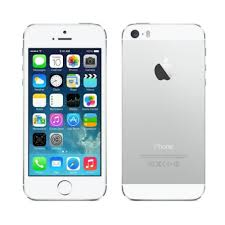iphone: (117, 18, 206, 202), (20, 17, 109, 201)
iphone5: (118, 19, 207, 203), (21, 19, 109, 202)
